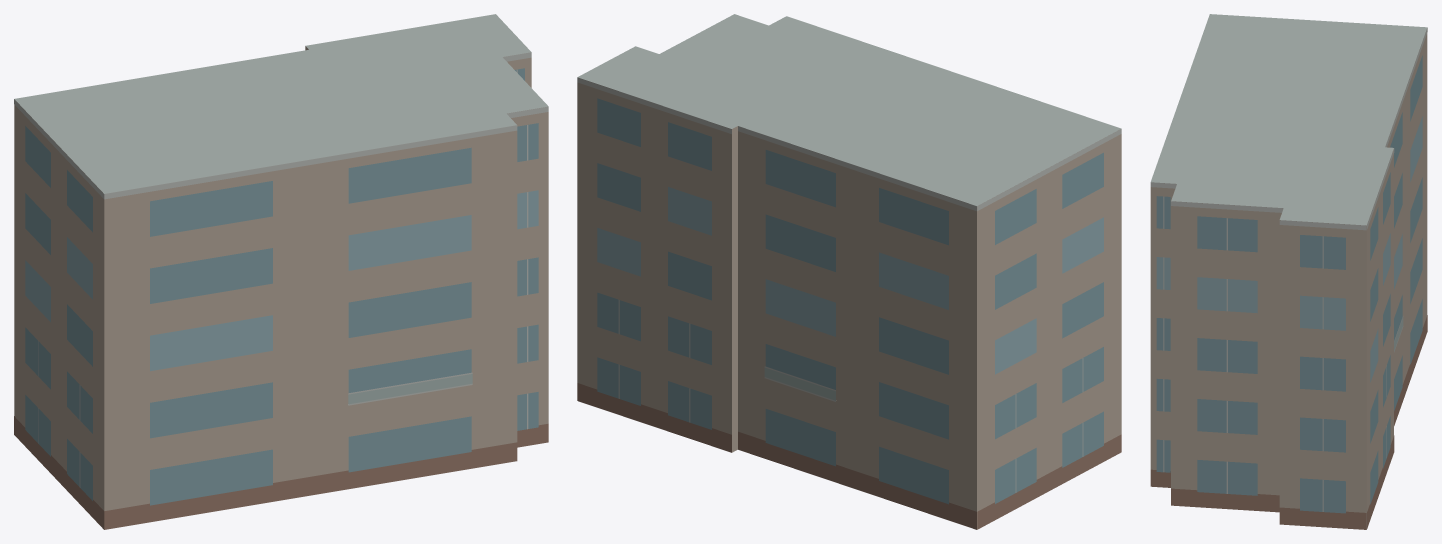
Rendered from survey-upis-32664512.glb.
3 renders of one model, left to right at view 1: azimuth 30°, elevation 25°; view 2: azimuth 150°, elevation 25°; view 3: azimuth 270°, elevation 25°, orthographic. The views are drawn at different scales.
Parts seen in each view (by area): view 1: survey-upis-32664512.tmp; view 2: survey-upis-32664512.tmp; view 3: survey-upis-32664512.tmp.
Boxes of the visible parts, x1=… form: survey-upis-32664512.tmp: x1=14, y1=14, x2=548, y2=529; survey-upis-32664512.tmp: x1=577, y1=14, x2=1121, y2=529; survey-upis-32664512.tmp: x1=1150, y1=14, x2=1427, y2=529.
Size of the model in its own units: 22.73 by 15.25 by 12.58.
